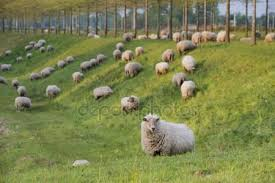sheep: (136, 113, 193, 154), (11, 94, 35, 112), (179, 56, 198, 77), (92, 84, 113, 102), (119, 95, 141, 112), (178, 81, 199, 98), (44, 84, 66, 99), (123, 62, 142, 79), (176, 40, 198, 54), (218, 30, 238, 44), (161, 47, 179, 62), (170, 73, 190, 86), (201, 28, 217, 44), (156, 63, 171, 76), (121, 31, 136, 44), (72, 72, 87, 85), (112, 48, 126, 60), (41, 66, 55, 78), (179, 30, 191, 43), (97, 50, 109, 63), (55, 58, 68, 70), (190, 31, 204, 42), (133, 46, 145, 58), (170, 30, 181, 43), (29, 71, 42, 82), (17, 85, 31, 95), (122, 50, 134, 61), (1, 62, 13, 73), (79, 59, 89, 70), (65, 54, 74, 65), (11, 78, 23, 86), (24, 43, 36, 51), (46, 44, 59, 51), (116, 43, 126, 52), (25, 52, 37, 59), (90, 55, 96, 67), (15, 57, 27, 63), (39, 45, 47, 53), (33, 42, 41, 50), (4, 49, 13, 56), (38, 39, 49, 44)
